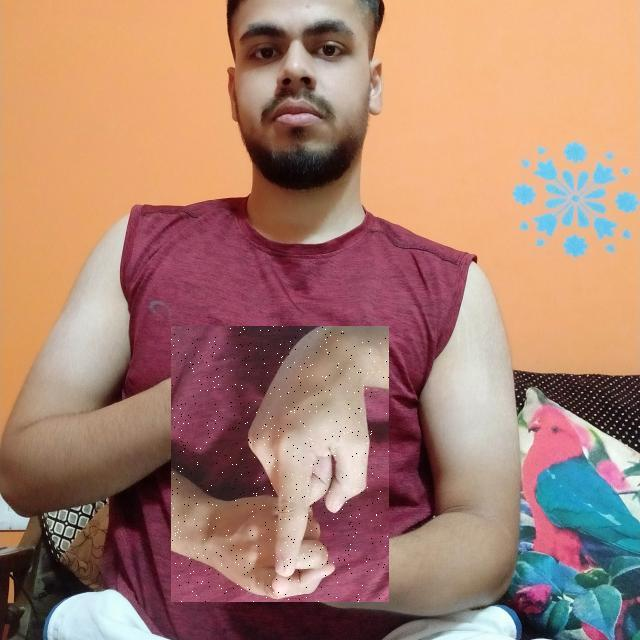I: (171, 326, 389, 602)
